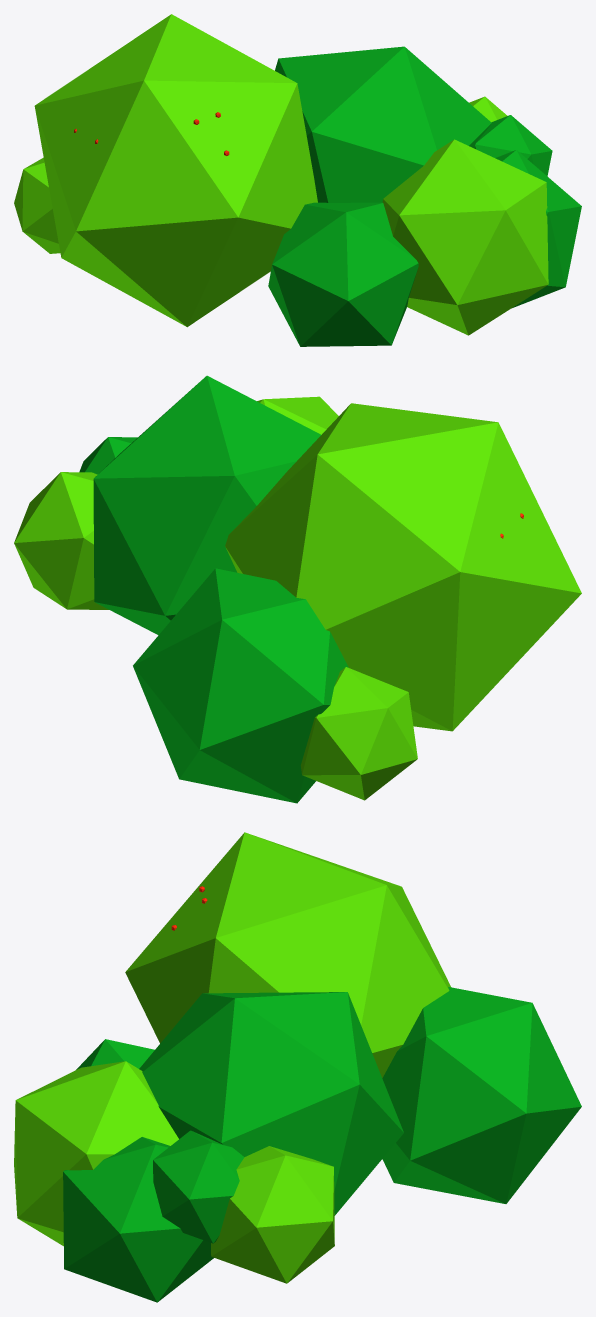
3 views of the same model, one above another, from view 1: azimuth 30°, elevation 25°; view 2: azimuth 150°, elevation 25°; view 3: azimuth 270°, elevation 25° (orthographic). The views are drawn at different scales.
Visible parts, largest first — view 1: Icosphere, Icosphere.002, Icosphere.001, Icosphere.008, Icosphere.003, Icosphere.007, Icosphere.005, Icosphere.004; view 2: Icosphere, Icosphere.006, Icosphere.001, Icosphere.007, Icosphere.004, Icosphere.002, Icosphere.005; view 3: Icosphere, Icosphere.001, Icosphere.006, Icosphere.002, Icosphere.003, Icosphere.004, Icosphere.005, Icosphere.008.
Part boxes in pixels (bbox=[...]): Icosphere: bbox=[34, 14, 317, 327]; Icosphere.002: bbox=[382, 139, 548, 335]; Icosphere.001: bbox=[275, 46, 491, 202]; Icosphere.008: bbox=[268, 202, 418, 346]; Icosphere.003: bbox=[495, 150, 581, 308]; Icosphere.007: bbox=[14, 157, 60, 253]; Icosphere.005: bbox=[474, 115, 552, 176]; Icosphere.004: bbox=[469, 96, 507, 122]; Icosphere: bbox=[225, 403, 581, 731]; Icosphere.006: bbox=[133, 568, 348, 803]; Icosphere.001: bbox=[93, 375, 320, 634]; Icosphere.007: bbox=[300, 667, 417, 800]; Icosphere.004: bbox=[14, 472, 108, 609]; Icosphere.002: bbox=[257, 396, 338, 434]; Icosphere.005: bbox=[79, 437, 137, 474]; Icosphere: bbox=[125, 832, 450, 1077]; Icosphere.001: bbox=[139, 992, 403, 1215]; Icosphere.006: bbox=[382, 987, 581, 1203]; Icosphere.002: bbox=[14, 1061, 178, 1246]; Icosphere.003: bbox=[63, 1137, 213, 1302]; Icosphere.004: bbox=[211, 1146, 334, 1283]; Icosphere.005: bbox=[153, 1130, 244, 1243]; Icosphere.008: bbox=[76, 1039, 154, 1069].
Bounding box in the file's own units: 542 × 296 × 514.
